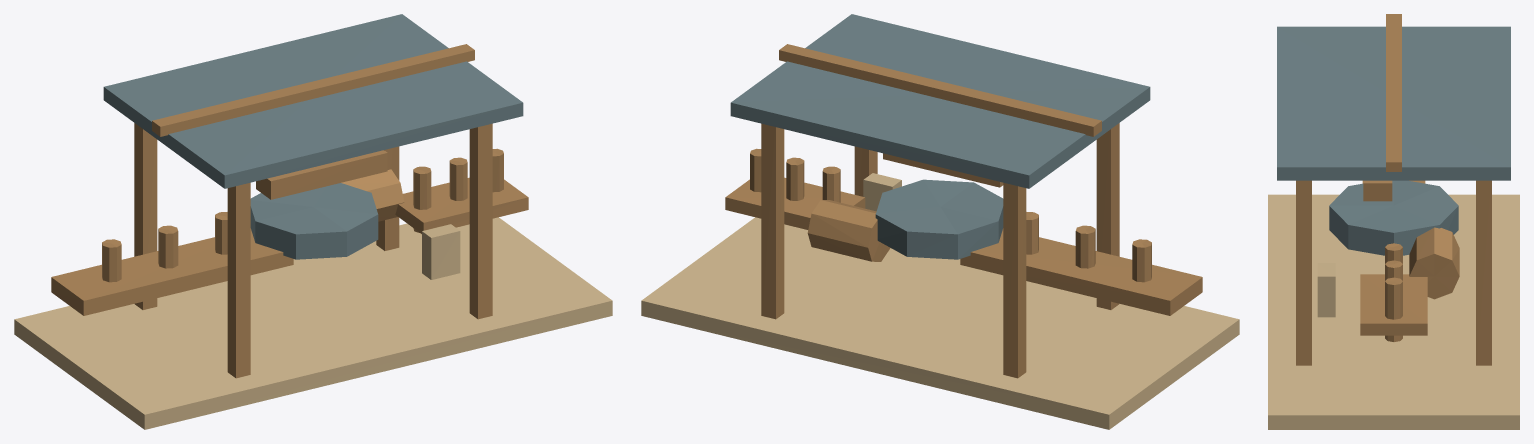
File: Lumber-Mill.glb
The picture shows the model from 3 angles, left to right: view 1: azimuth 30°, elevation 25°; view 2: azimuth 150°, elevation 25°; view 3: azimuth 270°, elevation 25°; orthographic projection. The views are drawn at different scales.
Parts seen in each view (by area): view 1: lumber-mill-static-mill-cream, lumber-mill-static-mill-iron, lumber-mill-static-mill-timber, lumber-mill-static-mill-galv, lumber-mill-static-mill-teal; view 2: lumber-mill-static-mill-cream, lumber-mill-static-mill-iron, lumber-mill-static-mill-timber, lumber-mill-static-mill-galv, lumber-mill-static-mill-teal; view 3: lumber-mill-static-mill-cream, lumber-mill-static-mill-iron, lumber-mill-static-mill-timber, lumber-mill-static-mill-galv, lumber-mill-static-mill-teal.
Part boxes in pixels (left/top/right/bottom): lumber-mill-static-mill-cream: left=14, top=217, right=612, bottom=429; lumber-mill-static-mill-iron: left=103, top=14, right=523, bottom=259; lumber-mill-static-mill-timber: left=51, top=123, right=528, bottom=378; lumber-mill-static-mill-galv: left=102, top=44, right=503, bottom=282; lumber-mill-static-mill-teal: left=256, top=150, right=404, bottom=221; lumber-mill-static-mill-cream: left=641, top=173, right=1239, bottom=429; lumber-mill-static-mill-iron: left=730, top=14, right=1150, bottom=259; lumber-mill-static-mill-timber: left=725, top=123, right=1202, bottom=378; lumber-mill-static-mill-galv: left=750, top=44, right=1151, bottom=282; lumber-mill-static-mill-teal: left=807, top=153, right=1003, bottom=261; lumber-mill-static-mill-cream: left=1268, top=194, right=1519, bottom=429; lumber-mill-static-mill-iron: left=1277, top=26, right=1510, bottom=255; lumber-mill-static-mill-timber: left=1296, top=180, right=1491, bottom=365; lumber-mill-static-mill-galv: left=1385, top=14, right=1402, bottom=341; lumber-mill-static-mill-teal: left=1363, top=180, right=1459, bottom=299.
Size of the model in its own units: 5.95 by 2.84 by 2.8.
